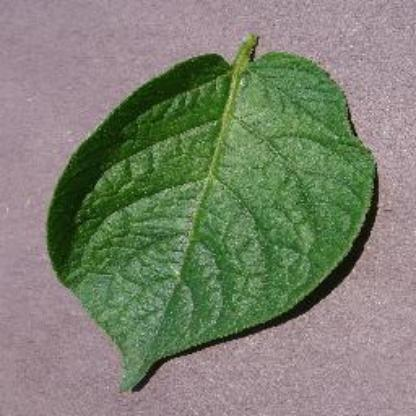Healthy-plant: (34, 30, 390, 372)
